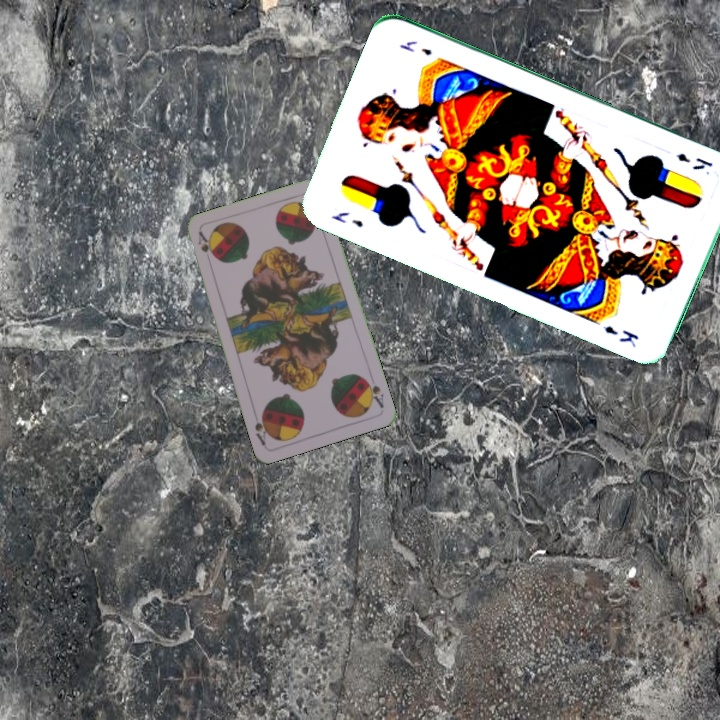EK: (672, 148, 715, 173), (327, 207, 366, 230)
SA: (360, 374, 386, 411), (194, 228, 215, 259)
